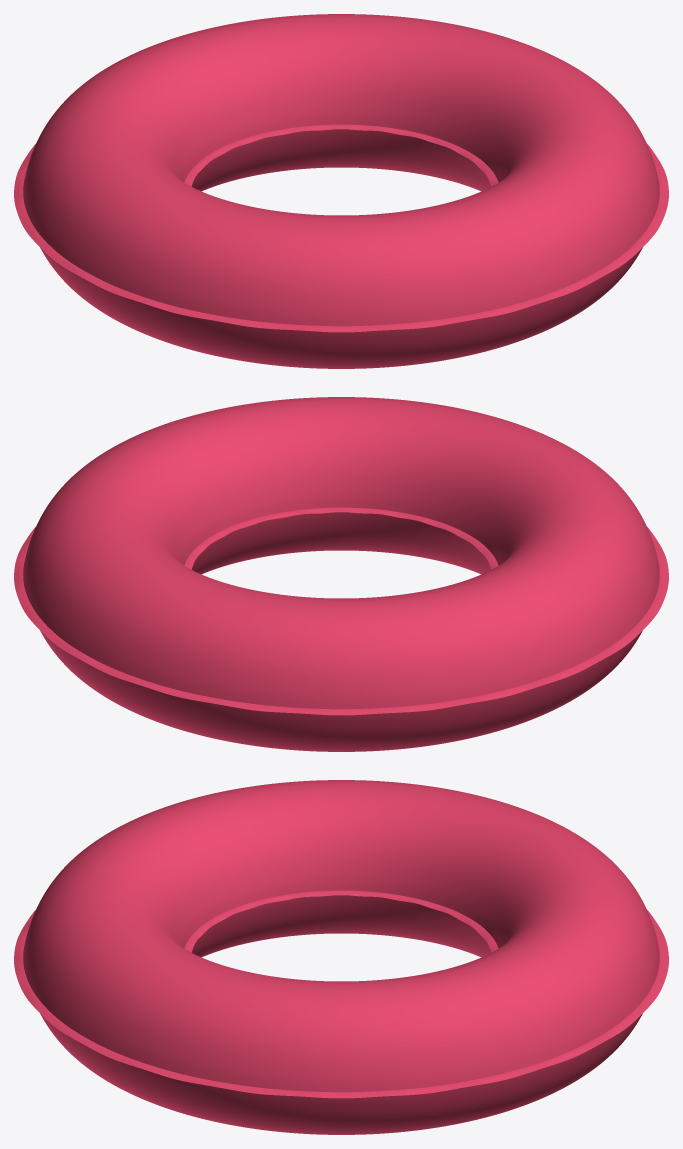
Rendered from floatiedonut.fbx.
3 renders of one model, top to bottom at view 1: azimuth 30°, elevation 25°; view 2: azimuth 150°, elevation 25°; view 3: azimuth 270°, elevation 25°, orthographic.
Parts seen in each view (by area): view 1: Floatie; view 2: Floatie; view 3: Floatie.
Part boxes in pixels (<box>): Floatie: <box>14,14,668,368</box>; Floatie: <box>14,397,668,751</box>; Floatie: <box>14,780,668,1134</box>.
Bounding box in the file's own units: 315 × 73.86 × 315.
